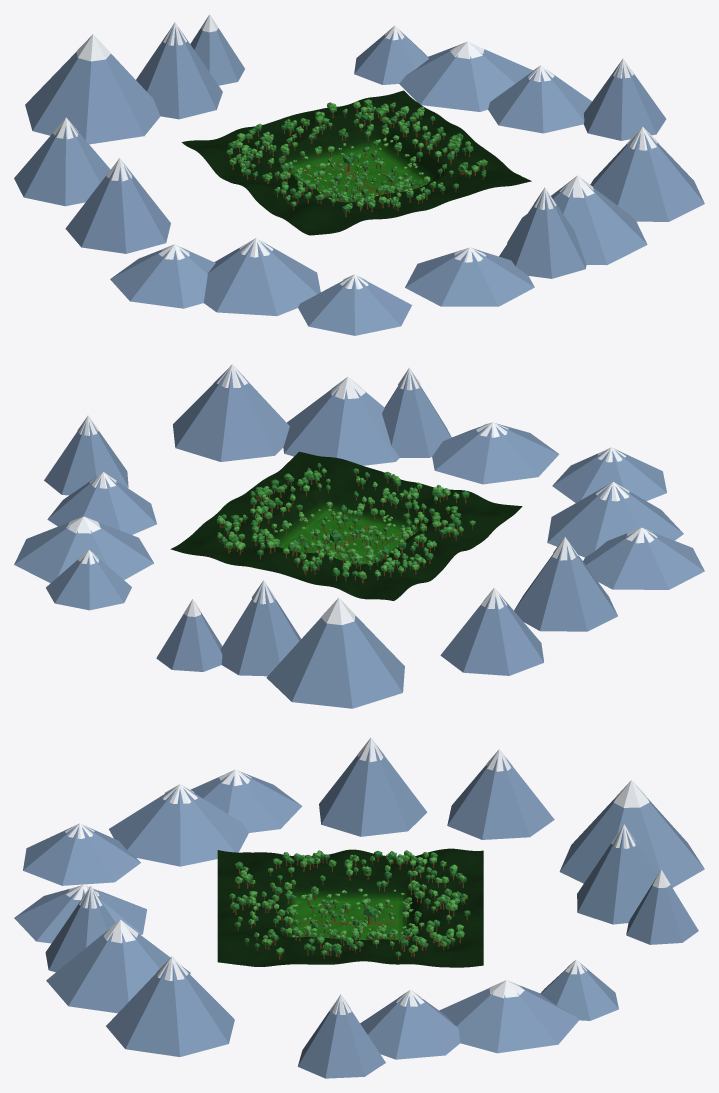
File: tokiwa.glb
3 renders of one model, top to bottom at view 1: azimuth 30°, elevation 25°; view 2: azimuth 150°, elevation 25°; view 3: azimuth 270°, elevation 25°, orthographic. The views are drawn at different scales.
Visible parts, largest first — view 1: mountain, terrain, mountainSnow, leaf1, leaf2, leaf3, trunk; view 2: mountain, terrain, mountainSnow, leaf3, leaf2, leaf1, trunk; view 3: mountain, terrain, mountainSnow, leaf3, leaf2, leaf1, trunk.
Boxes of the visible parts, left/top/right/bottom form: mountain: left=14, top=27, right=704, bottom=335; terrain: left=181, top=90, right=531, bottom=235; mountainSnow: left=53, top=14, right=657, bottom=289; leaf1: left=226, top=99, right=487, bottom=207; leaf2: left=229, top=101, right=481, bottom=208; leaf3: left=228, top=102, right=486, bottom=212; trunk: left=229, top=108, right=484, bottom=217; mountain: left=14, top=369, right=704, bottom=708; terrain: left=170, top=451, right=522, bottom=600; mountainSnow: left=66, top=364, right=657, bottom=625; leaf3: left=221, top=463, right=469, bottom=576; leaf2: left=217, top=469, right=462, bottom=579; leaf1: left=216, top=471, right=475, bottom=577; trunk: left=219, top=468, right=472, bottom=583; mountain: left=14, top=745, right=704, bottom=1078; terrain: left=217, top=848, right=483, bottom=967; mountainSnow: left=65, top=738, right=670, bottom=1014; leaf3: left=231, top=850, right=470, bottom=956; leaf2: left=231, top=850, right=464, bottom=952; leaf1: left=229, top=850, right=467, bottom=955; trunk: left=232, top=857, right=467, bottom=960.
Bounding box in the file's own units: 262 × 34.4 × 257.
